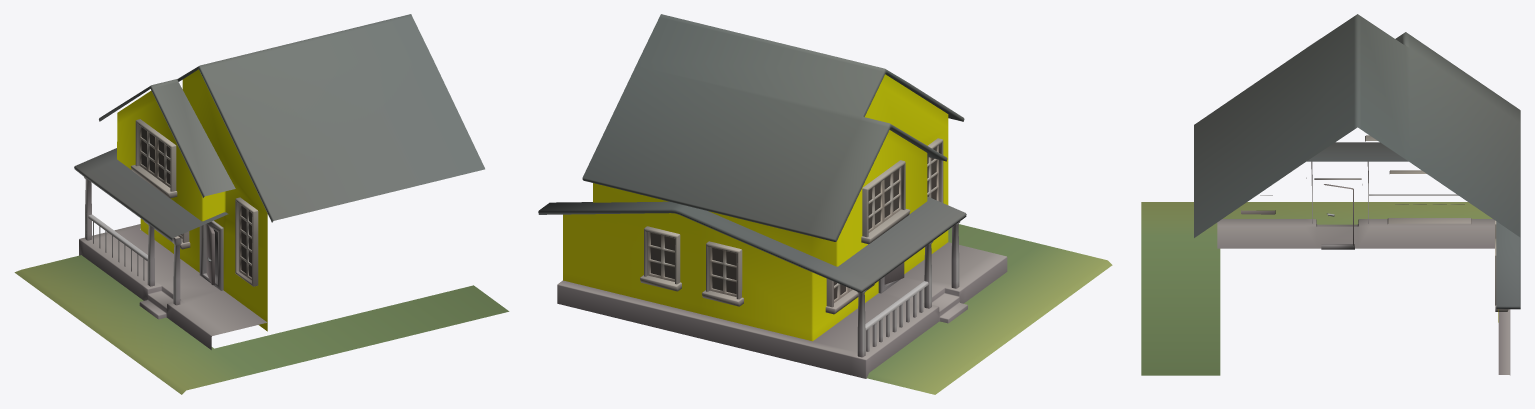
The model's file is House.glb.
The picture shows the model from 3 angles, left to right: view 1: azimuth 30°, elevation 25°; view 2: azimuth 150°, elevation 25°; view 3: azimuth 270°, elevation 25°; orthographic projection. The views are drawn at different scales.
Visible parts, largest first — view 1: House; view 2: House; view 3: House.
Part boxes in pixels (x1,y1,x2,y2): House: (14,14,509,394); House: (538,14,1112,394); House: (1141,14,1520,375).
Size of the model in its own units: 22.15 by 13.13 by 17.9.
2 materials, 1 textured.
